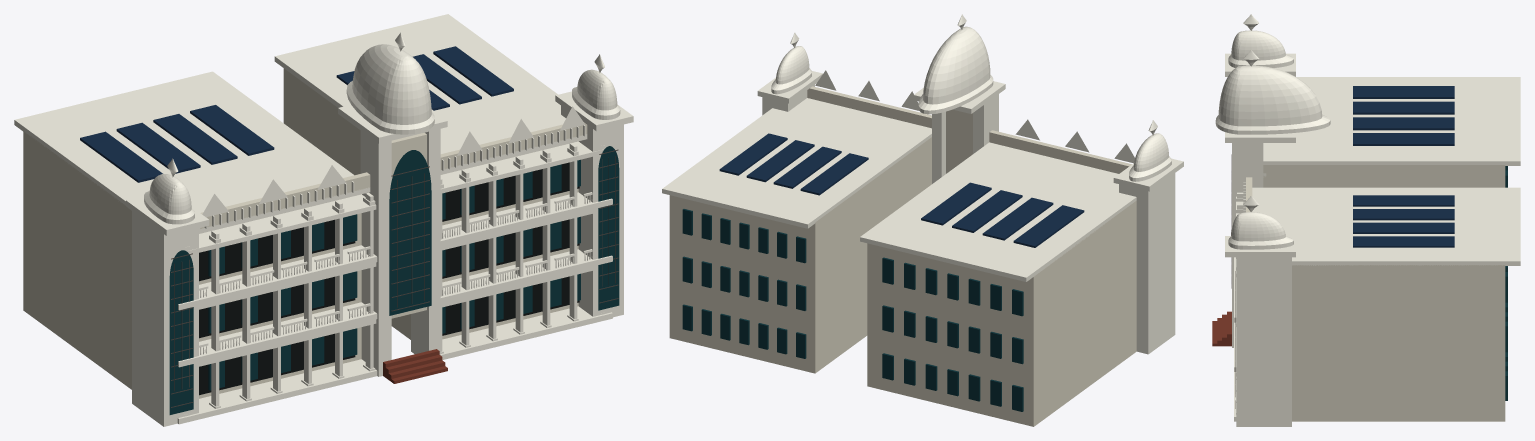
The model's file is College_Fitted.obj.
3 views of the same model, side by side, from view 1: azimuth 30°, elevation 25°; view 2: azimuth 150°, elevation 25°; view 3: azimuth 270°, elevation 25° (orthographic). The views are drawn at different scales.
Visible parts, largest first — view 1: White, Ivory, Glass, Recess, Solar, Stone, Terracotta; view 2: Ivory, White, Glass, Solar; view 3: White, Ivory, Solar, Terracotta, Glass.
Boxes of the visible parts, x1,y1,x2,y2 form: White: (14,14,633,426); Ivory: (23,68,587,398); Glass: (169,146,619,414); Recess: (199,162,579,395); Solar: (80,46,513,182); Stone: (171,149,618,407); Terracotta: (383,349,447,383); Ivory: (669,86,1136,426); White: (662,14,1183,354); Glass: (682,209,1023,411); Solar: (719,133,1084,247); White: (1215,14,1520,426); Ivory: (1246,165,1505,421); Solar: (1353,86,1454,247); Terracotta: (1212,311,1231,346); Glass: (1505,166,1507,400).
Size of the model in its own units: 30 by 20.17 by 19.71.
